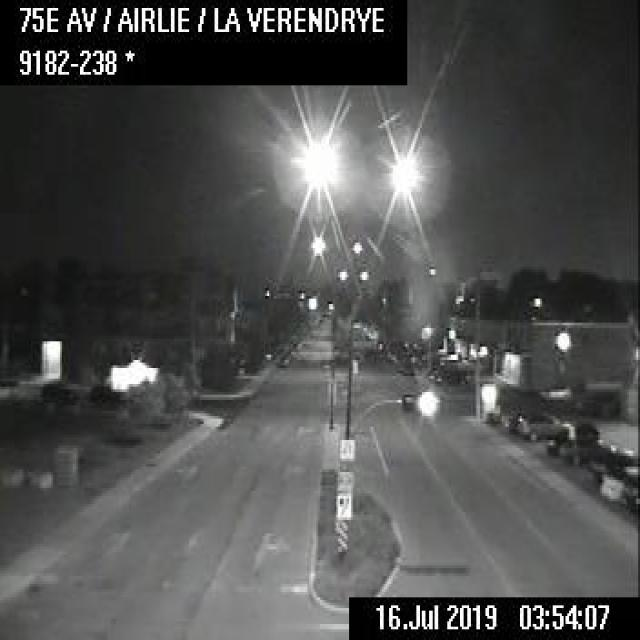vehicle: (516, 410, 568, 442), (598, 463, 638, 502), (560, 436, 610, 466), (86, 379, 129, 405), (38, 378, 76, 402)
